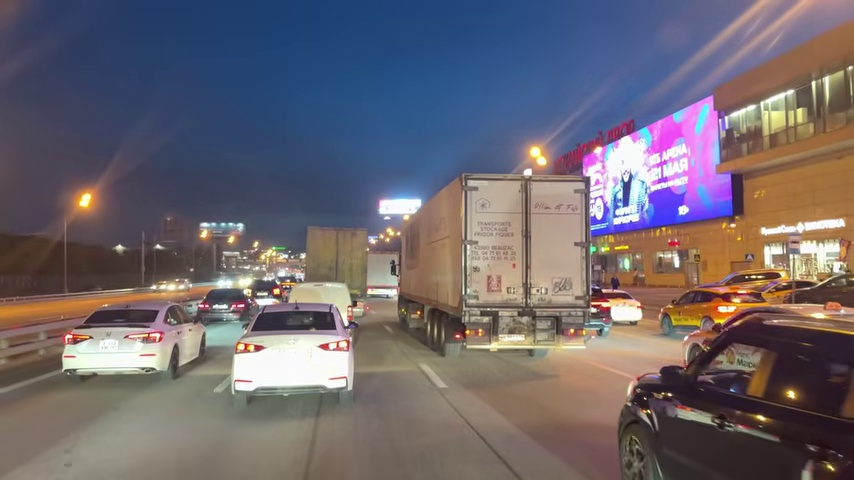acesa: (525, 143, 549, 170), (74, 189, 97, 212), (196, 225, 212, 243), (782, 389, 800, 402)
